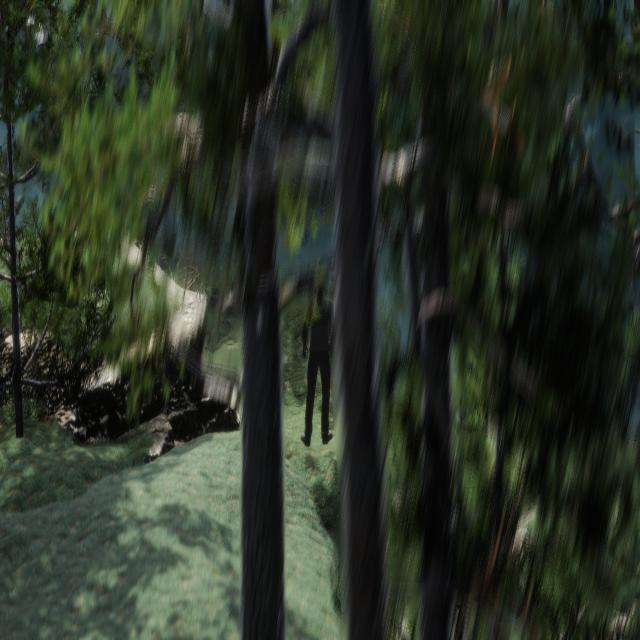Human: (297, 262, 344, 465)
